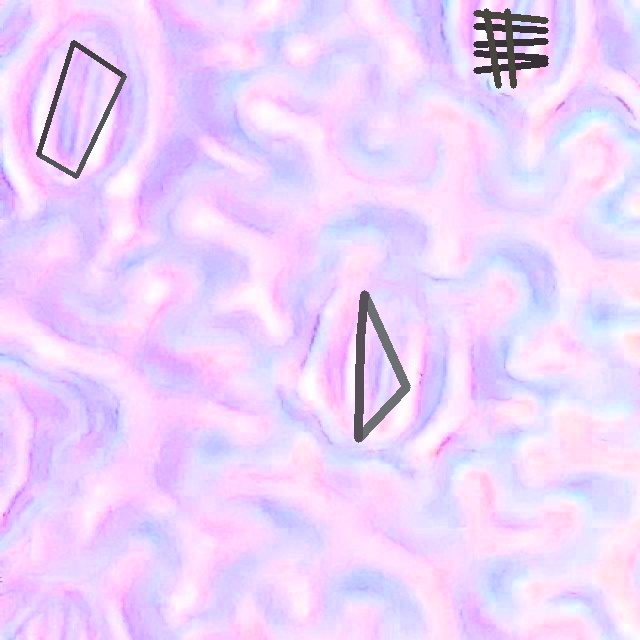open: (36, 41, 125, 178), (356, 291, 409, 441), (473, 8, 548, 88)
